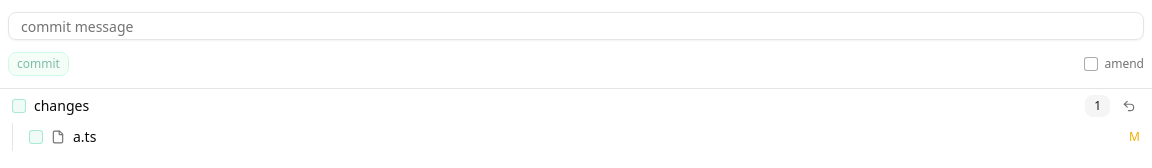
it: amend checkbox › amend without message is allowed (enables commit button)
What coordinates should you click on to do the following:
click the checkbox named "amend last commit"
I would click on:
 (1092, 64)
Its box is [1084,57,1098,71].
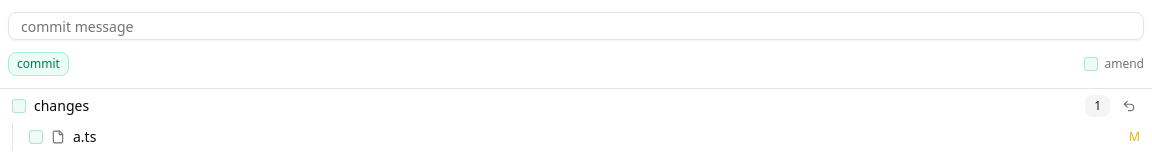
Now the button "commit" is enabled, box [8,52,69,76]
